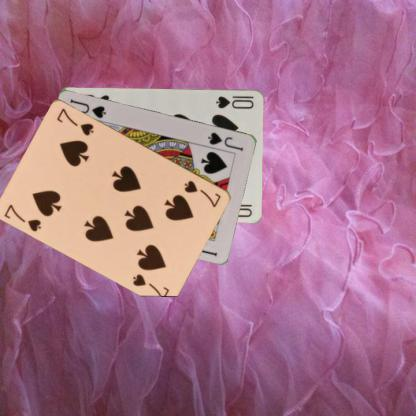10s: (213, 93, 255, 110)
7s: (2, 202, 43, 233), (182, 178, 222, 209)
Js: (206, 130, 245, 152)
